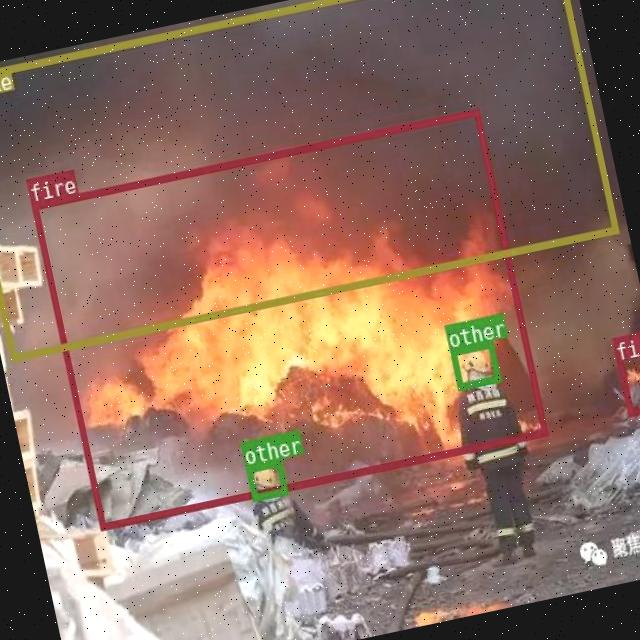fire: (31, 107, 546, 529), (610, 331, 640, 415)
smoke: (0, 0, 617, 361)
